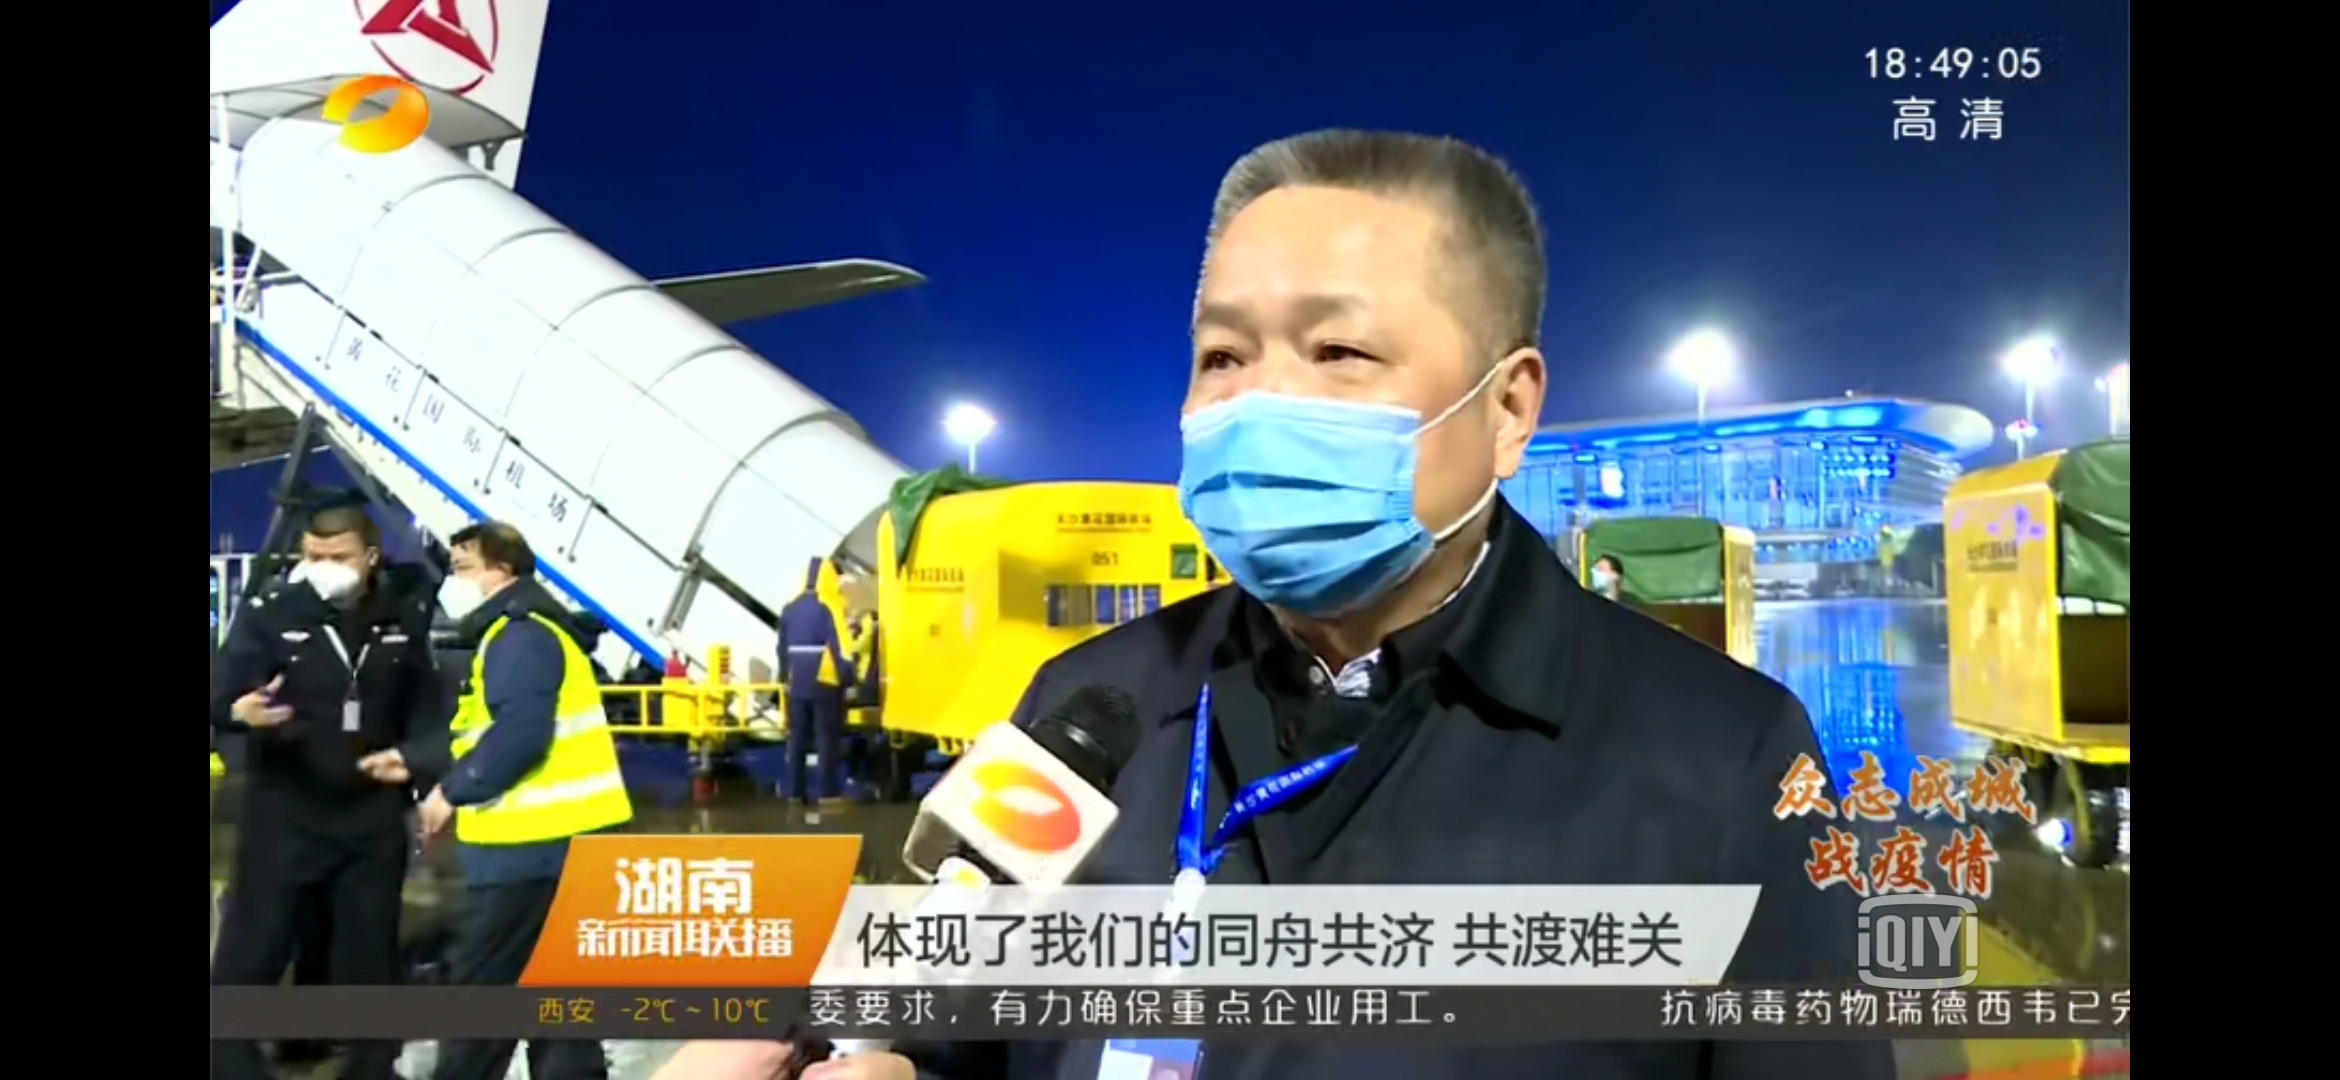correctlyWear: (1166, 285, 1551, 619), (434, 541, 516, 624), (292, 518, 378, 597)
